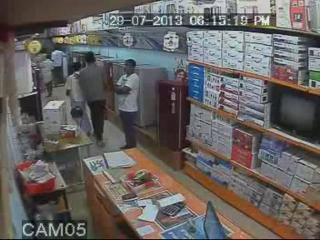Normal: (78, 51, 108, 148), (112, 59, 140, 150)
